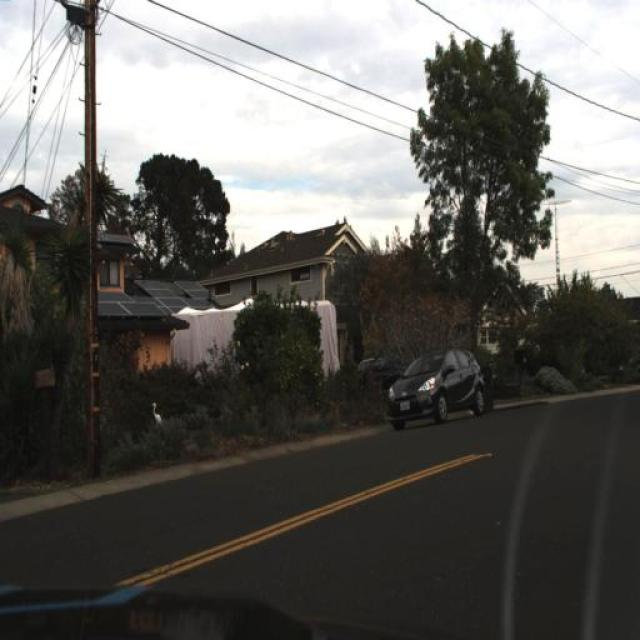car: (384, 340, 490, 435)
